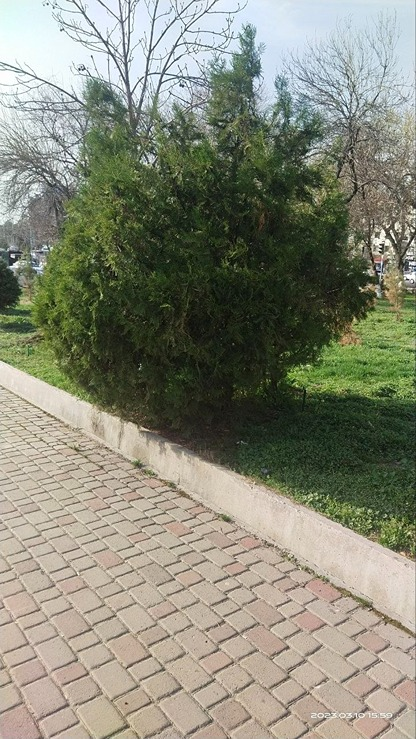tree: (35, 28, 384, 447)
